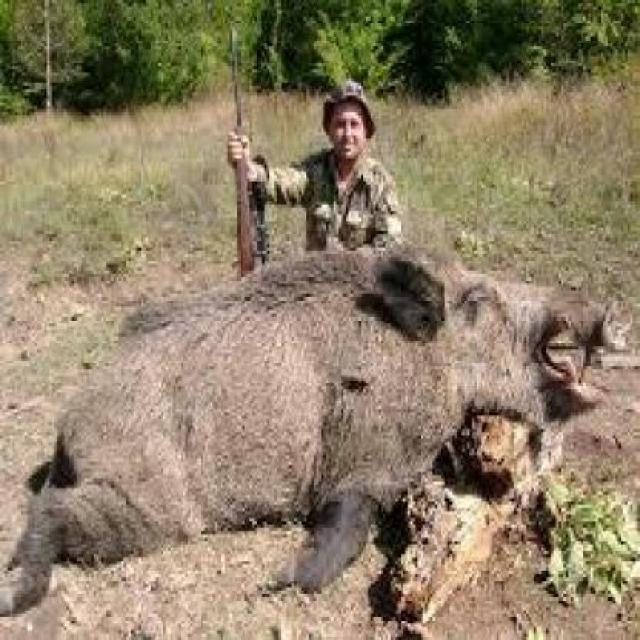Wild Boar: (0, 226, 617, 620)
